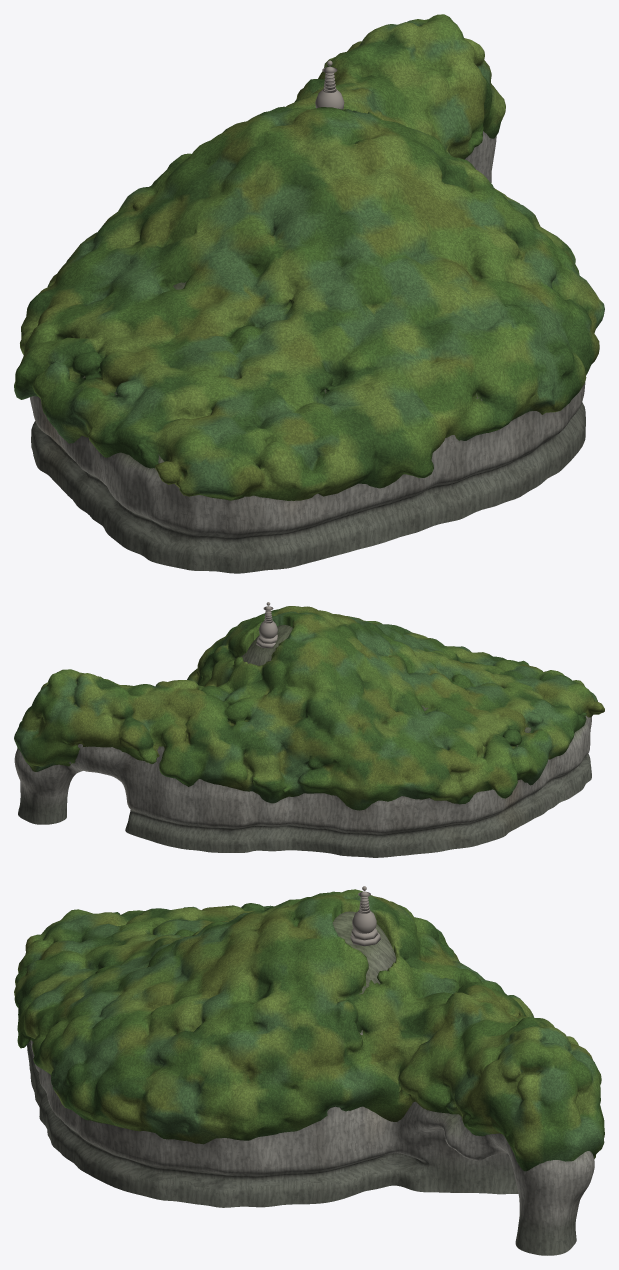
File: xiangbishan-far.glb
The picture shows the model from 3 angles, top to bottom: view 1: azimuth 30°, elevation 25°; view 2: azimuth 150°, elevation 25°; view 3: azimuth 270°, elevation 25°; orthographic projection. The views are drawn at different scales.
Visible parts, largest first — view 1: xiangbishan-canopy.001, xiangbishan-rock.001, xiangbishan实体构件 1; view 2: xiangbishan-canopy.001, xiangbishan-rock.001, xiangbishan实体构件 1; view 3: xiangbishan-canopy.001, xiangbishan-rock.001, xiangbishan实体构件 1.
Boxes of the visible parts, x1,y1,x2,y2 form: xiangbishan-canopy.001: (14, 14, 604, 500); xiangbishan-rock.001: (30, 131, 585, 573); xiangbishan实体构件 1: (315, 60, 344, 109); xiangbishan-canopy.001: (14, 606, 604, 810); xiangbishan-rock.001: (14, 624, 591, 857); xiangbishan实体构件 1: (256, 602, 277, 648); xiangbishan-canopy.001: (14, 889, 604, 1171); xiangbishan-rock.001: (27, 911, 594, 1255); xiangbishan实体构件 1: (350, 886, 380, 946).
Bounding box in the file's own units: 141 × 65.81 × 137.
3 materials, 2 textured.
